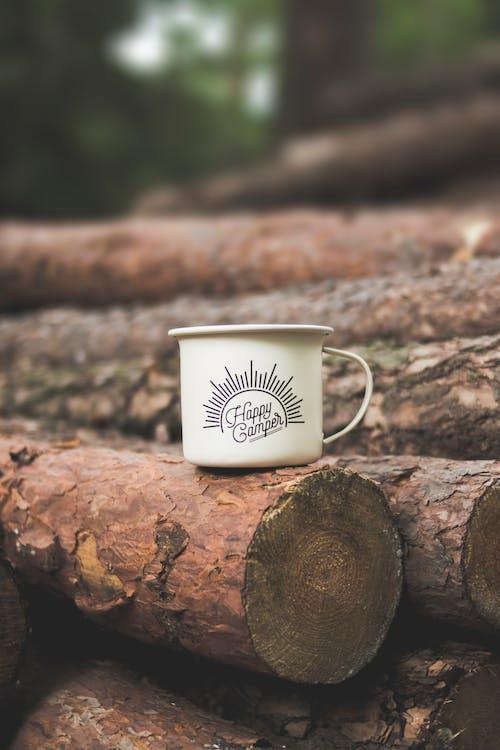Mug: (167, 280, 385, 509)
